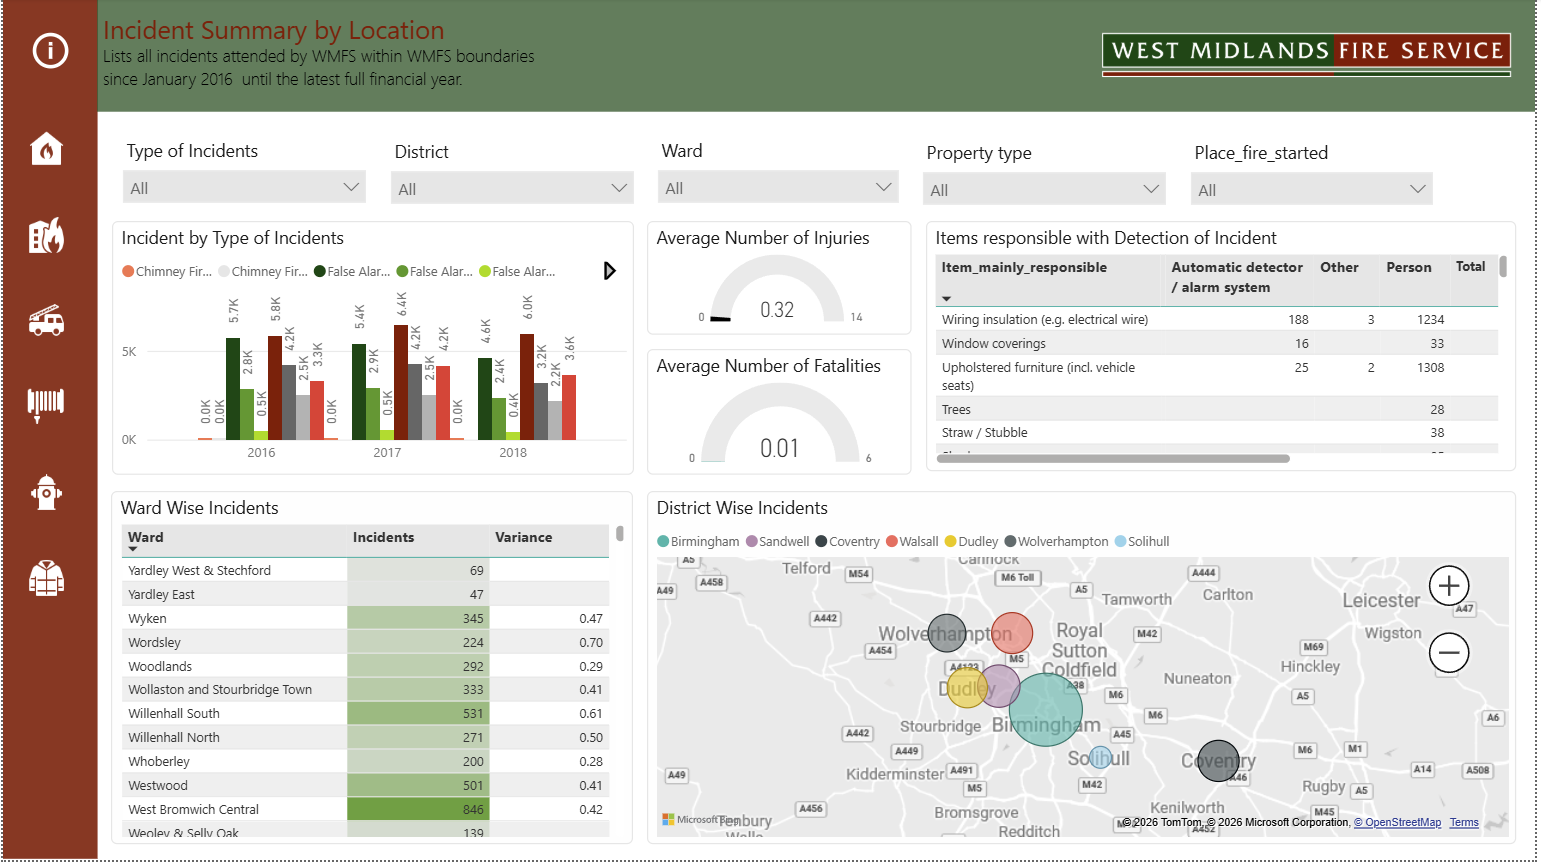

The page's visual inventory and layout, read from the dashboard file:
{"tool":"powerbi","page":{"name":"Incident category-Wise","canvas":[1280,720],"ordinal":1},"visuals":[{"type":"slicer","fields":{"Values":["WMF.Property type"]},"box":[758.6,113.8,223.4,63.8],"z":0},{"type":"pivotTable","title":"Items responsible with Detection of Incident","fields":{"Columns":["WMF.Fire discovered_by"],"Rows":["WMF.Item_mainly_responsible"],"Values":["CountNonNull(WMF.Incident num)"]},"box":[771.2,186.3,492.6,209],"z":26},{"type":"map","title":"District Wise Incidents","fields":{"Category":["WMF.District"],"Series":["WMF.District"],"Size":["CountNonNull(WMF.Incident num)"]},"box":[537.8,411.9,725.9,294.8],"z":1000},{"type":"slicer","fields":{"Values":["WMF.Revised inc type"]},"box":[90.4,111.7,223.4,66],"z":2000},{"type":"slicer","fields":{"Values":["WMF.Place_fire_started"]},"box":[982.1,113.8,222.4,63.8],"z":3000},{"type":"gauge","title":"Average Number of Injuries","fields":{"MaxValue":["Max(WMF.Injuries)1"],"MinValue":["Min(WMF.Injuries)"],"Y":["Avg(WMF.Injuries)"]},"box":[537.8,186.7,220.7,94.8],"z":4000},{"type":"gauge","title":"Average Number of Fatalities","fields":{"MaxValue":["Max(WMF.Fatalities)2"],"MinValue":["Min(WMF.Fatalities)1"],"Y":["Avg(WMF.Fatalities)"]},"box":[537.8,293.3,220.7,105.2],"z":5000},{"type":"tableEx","title":"Ward Wise Incidents","fields":{"Values":["WMF.Ward","CountNonNull(WMF.Incident num)","WMF.Var"]},"box":[90.4,411.9,435.6,294.8],"z":6000},{"type":"clusteredColumnChart","title":"Incident by Type of Incidents","fields":{"Category":["WMF.Inc date/time.Variation.Date Hierarchy.Year","WMF.Inc date/time.Variation.Date Hierarchy.Month"],"Series":["WMF.Revised inc type"],"Y":["CountNonNull(WMF.Incident num)"]},"box":[90.7,186.3,435.8,212.3],"z":7000},{"type":"slicer","fields":{"Values":["WMF.District"]},"box":[313.9,112.8,223.4,64.9],"z":8000},{"type":"slicer","fields":{"Values":["WMF.Ward"]},"box":[537.3,111.7,221.3,66],"z":9000},{"type":"basicShape","box":[0,0,78.5,719.3],"z":10000},{"type":"basicShape","box":[78.2,0,1201.8,95],"z":11000},{"type":"image","box":[912.7,9.6,352.4,75.7],"z":12000},{"type":"actionButton","box":[5.5,15.1,67.5,57.8],"z":13000},{"type":"actionButton","title":"Home Button","box":[0,88,73.5,73.5],"z":14000},{"type":"actionButton","title":"Home Button","box":[1.6,94.2,73.8,73.8],"z":15000},{"type":"actionButton","box":[1.6,161.8,73.8,73.8],"z":16000},{"type":"actionButton","box":[0,241.9,78.5,72.2],"z":17000},{"type":"image","box":[15.7,106.1,41,39.8],"z":18000},{"type":"image","box":[15.7,177.7,41,39.8],"z":19000},{"type":"image","box":[15.7,249.3,41,39.8],"z":20000},{"type":"actionButton","box":[1.6,293.7,72.2,73.8],"z":21000},{"type":"image","box":[12.1,320.8,48.2,39.8],"z":22000},{"type":"image","box":[15.7,392.4,41,39.8],"z":23000},{"type":"image","box":[15.7,464,41,39.8],"z":24000},{"type":"textbox","box":[78.5,5.8,389.2,82.7],"z":24001}]}

Visuals, with their boxes on the page's 1280x720 design canvas (x1, y1, x2, y2). These are canvas units, not pixel positions in the 1541x864 screenshot, which may show the page scaled, cropped or inside an application window:
slicer - WMF.Property type: (x1=759, y1=114, x2=982, y2=178)
"Items responsible with Detection of Incident" pivotTable: (x1=771, y1=186, x2=1264, y2=395)
"District Wise Incidents" map: (x1=538, y1=412, x2=1264, y2=707)
slicer - WMF.Revised inc type: (x1=90, y1=112, x2=314, y2=178)
slicer - WMF.Place_fire_started: (x1=982, y1=114, x2=1204, y2=178)
"Average Number of Injuries" gauge: (x1=538, y1=187, x2=758, y2=282)
"Average Number of Fatalities" gauge: (x1=538, y1=293, x2=758, y2=398)
"Ward Wise Incidents" tableEx: (x1=90, y1=412, x2=526, y2=707)
"Incident by Type of Incidents" clusteredColumnChart: (x1=91, y1=186, x2=526, y2=399)
slicer - WMF.District: (x1=314, y1=113, x2=537, y2=178)
slicer - WMF.Ward: (x1=537, y1=112, x2=759, y2=178)
basicShape: (x1=0, y1=0, x2=78, y2=719)
basicShape: (x1=78, y1=0, x2=1280, y2=95)
image: (x1=913, y1=10, x2=1265, y2=85)
actionButton: (x1=6, y1=15, x2=73, y2=73)
"Home Button" actionButton: (x1=0, y1=88, x2=74, y2=162)
"Home Button" actionButton: (x1=2, y1=94, x2=75, y2=168)
actionButton: (x1=2, y1=162, x2=75, y2=236)
actionButton: (x1=0, y1=242, x2=78, y2=314)
image: (x1=16, y1=106, x2=57, y2=146)
image: (x1=16, y1=178, x2=57, y2=218)
image: (x1=16, y1=249, x2=57, y2=289)
actionButton: (x1=2, y1=294, x2=74, y2=368)
image: (x1=12, y1=321, x2=60, y2=361)
image: (x1=16, y1=392, x2=57, y2=432)
image: (x1=16, y1=464, x2=57, y2=504)
textbox: (x1=78, y1=6, x2=468, y2=88)
